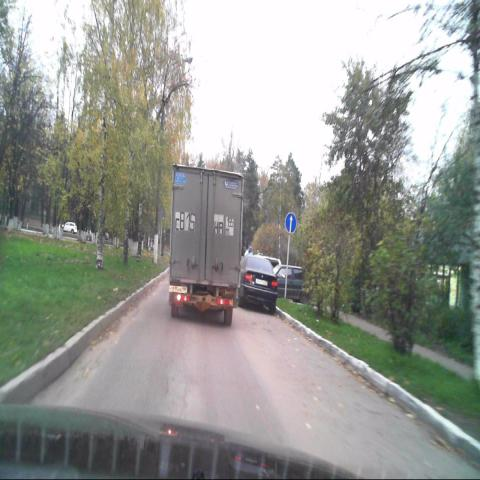4_1_1: (285, 214, 296, 234)
